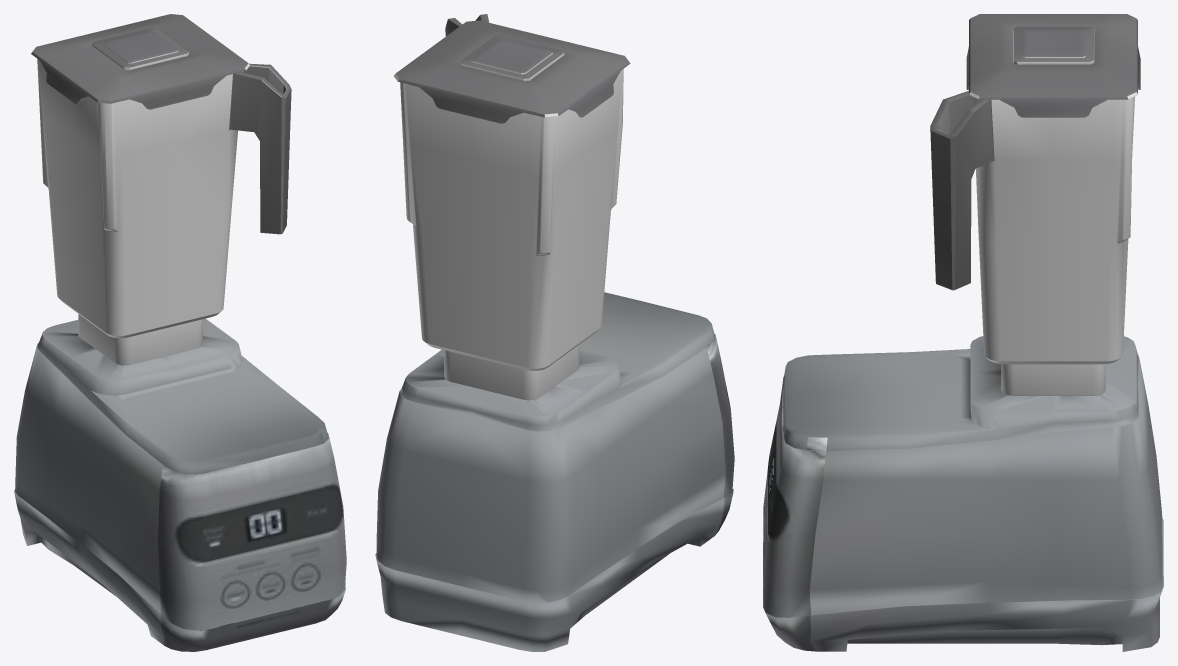
Rendered from jusice maker.fbx.
The picture shows the model from 3 angles, left to right: view 1: azimuth 30°, elevation 25°; view 2: azimuth 150°, elevation 25°; view 3: azimuth 270°, elevation 25°; orthographic projection. The views are drawn at different scales.
Visible parts, largest first — view 1: model_0, model_0.001; view 2: model_0, model_0.001; view 3: model_0, model_0.001.
Part boxes in pixels (box(x1,y1,x2,y2)): model_0: box(14, 318, 346, 651); model_0.001: box(31, 14, 291, 365); model_0: box(375, 292, 734, 651); model_0.001: box(394, 14, 630, 400); model_0: box(763, 336, 1163, 651); model_0.001: box(930, 14, 1140, 395).
Size of the model in its own units: 16.32 by 40.28 by 25.96.
2 materials, 1 textured.
